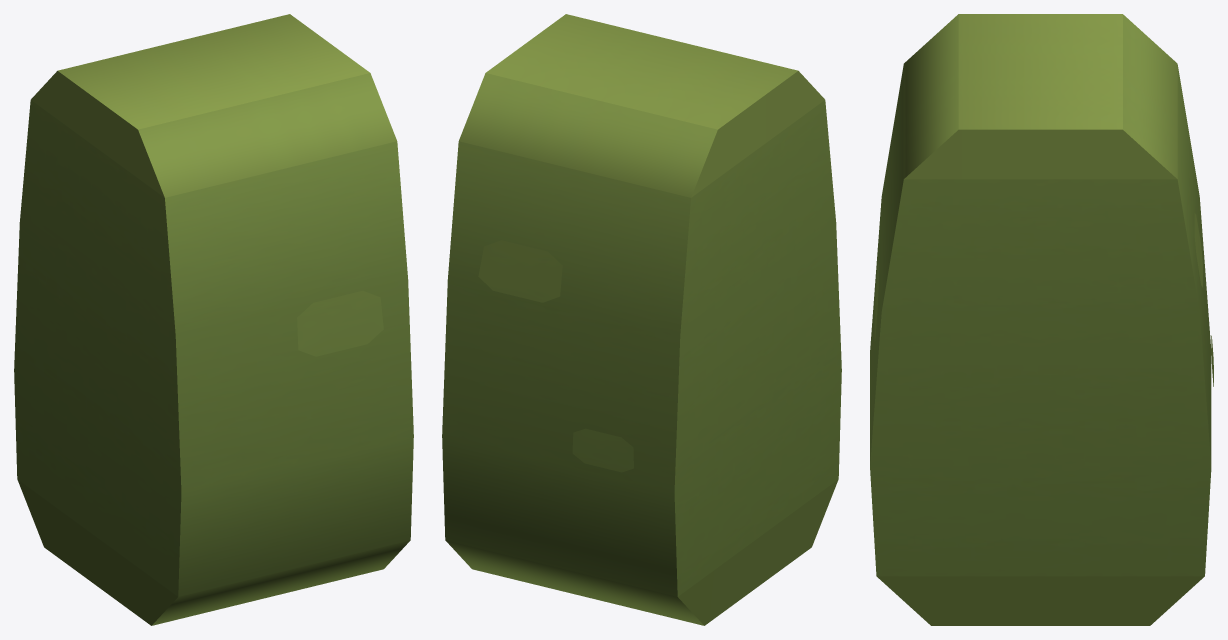
File: hedge_element_x1.fbx
3 views of the same model, side by side, from view 1: azimuth 30°, elevation 25°; view 2: azimuth 150°, elevation 25°; view 3: azimuth 270°, elevation 25° (orthographic). The views are drawn at different scales.
Parts seen in each view (by area): view 1: hedge_element_x1; view 2: hedge_element_x1; view 3: hedge_element_x1.
Part boxes in pixels (x1,y1,x2,y2): hedge_element_x1: [14, 14, 413, 625]; hedge_element_x1: [442, 14, 841, 625]; hedge_element_x1: [870, 14, 1213, 625].
Bounding box in the file's own units: 100 × 200 × 126.
